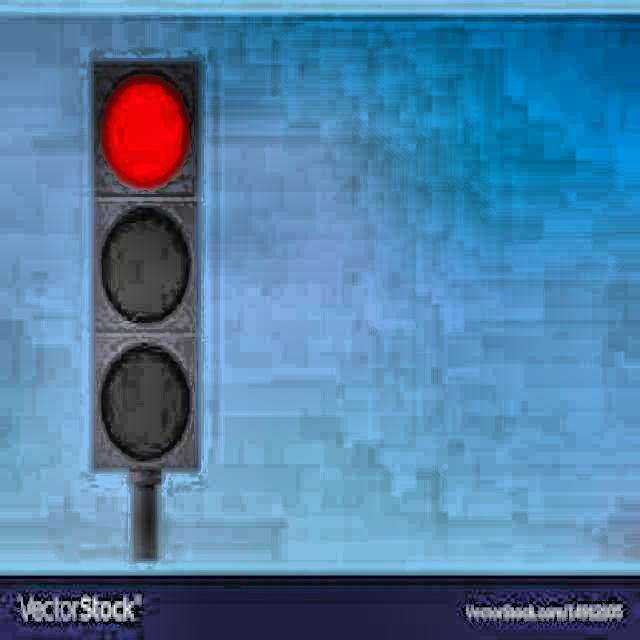red: (84, 59, 208, 474)
